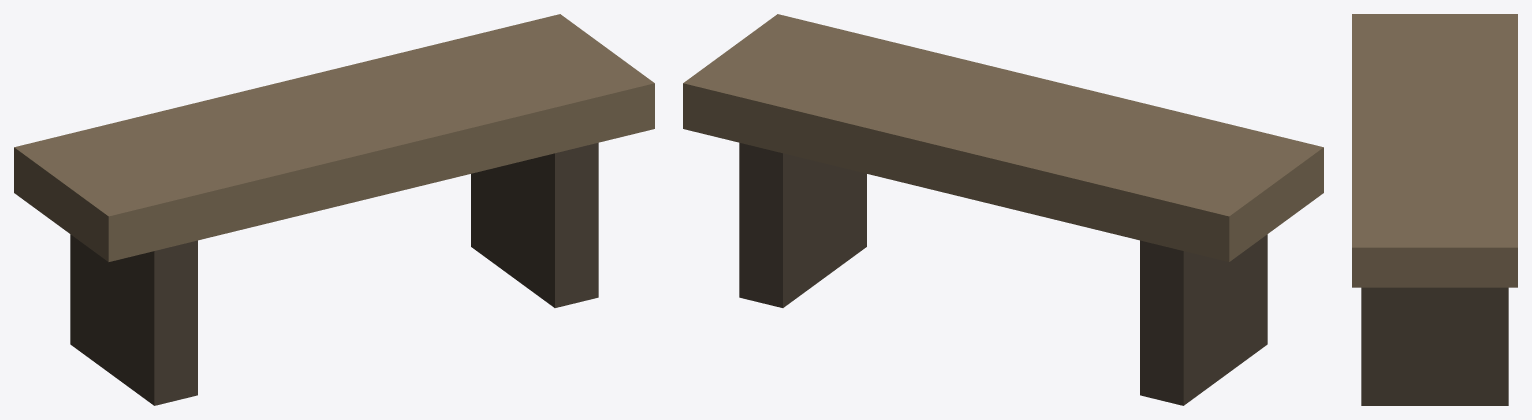
The model's file is PRP_09_Bench.glb.
3 views of the same model, side by side, from view 1: azimuth 30°, elevation 25°; view 2: azimuth 150°, elevation 25°; view 3: azimuth 270°, elevation 25° (orthographic). The views are drawn at different scales.
Parts seen in each view (by area): view 1: PRP_09_Bench; view 2: PRP_09_Bench; view 3: PRP_09_Bench.
Boxes of the visible parts, x1,y1,x2,y2 form: PRP_09_Bench: [14, 14, 654, 405]; PRP_09_Bench: [683, 14, 1323, 405]; PRP_09_Bench: [1352, 14, 1517, 405].
Size of the model in its own units: 1.5 by 0.54 by 0.45.
